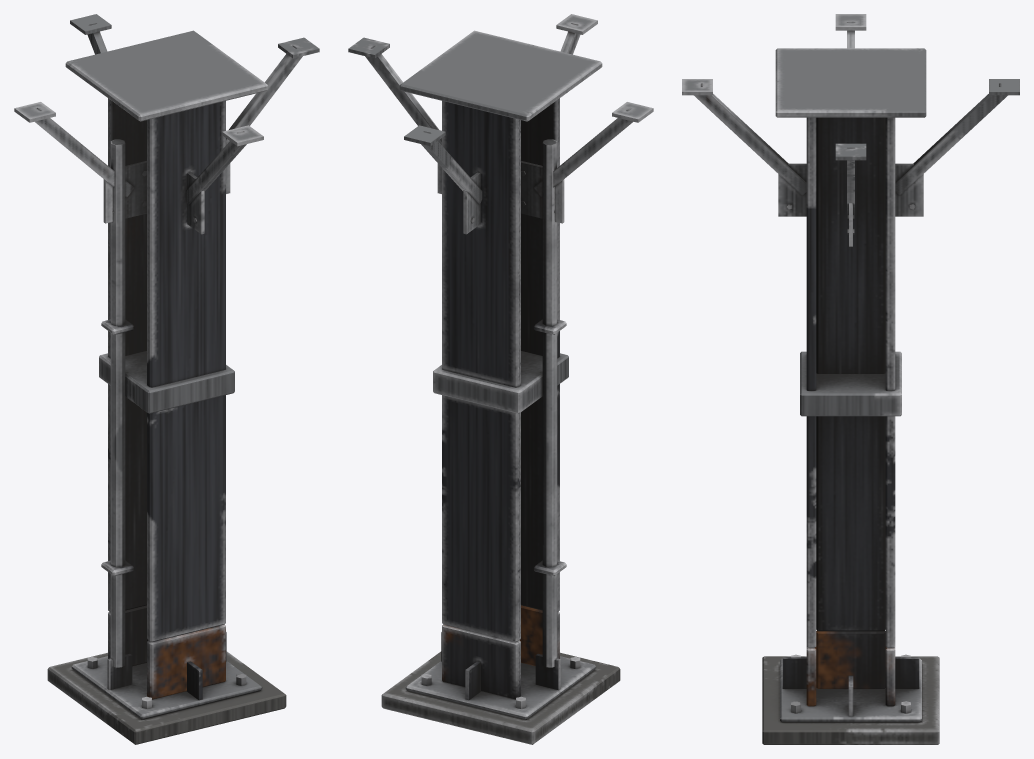
File: nodexeus-set-post-4.glb
3 views of the same model, side by side, from view 1: azimuth 30°, elevation 25°; view 2: azimuth 150°, elevation 25°; view 3: azimuth 270°, elevation 25° (orthographic).
Parts seen in each view (by area): view 1: set-post-4; view 2: set-post-4; view 3: set-post-4.
Boxes of the visible parts, bbox=[...] form: set-post-4: bbox=[14, 14, 319, 744]; set-post-4: bbox=[348, 14, 653, 744]; set-post-4: bbox=[682, 14, 1019, 744].
Size of the model in its own units: 2.63 by 5.4 by 2.63.
Materials: 1 (1 with a texture image).
